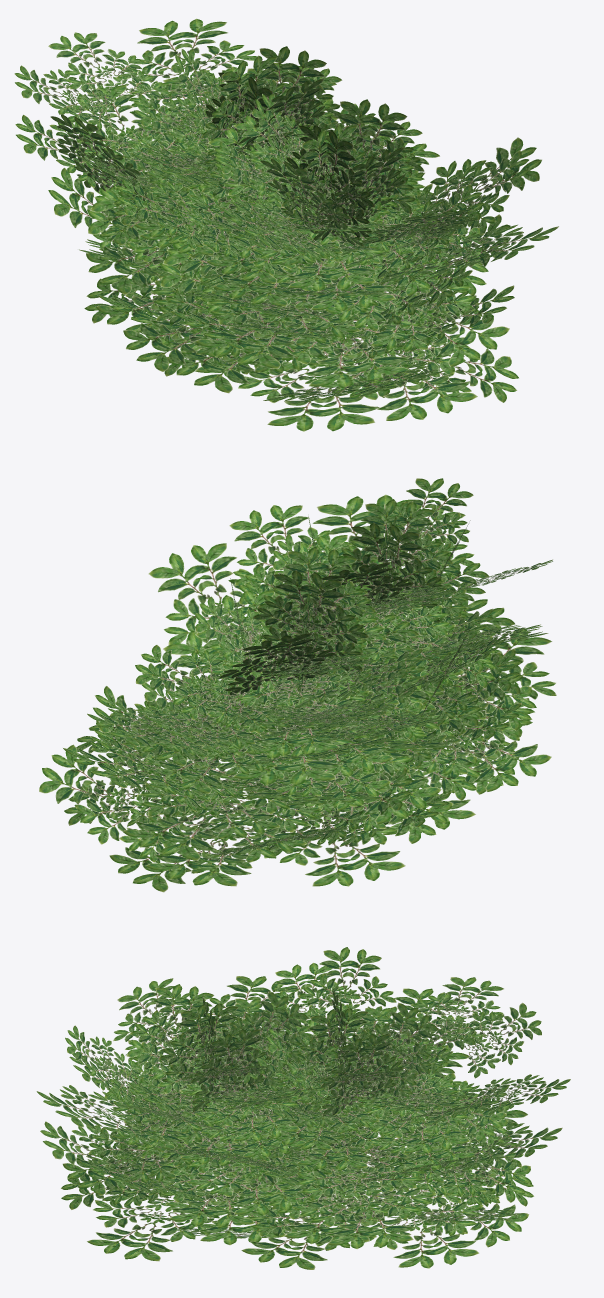
Rendered from buisson_2_2.FBX.
3 views of the same model, one above another, from view 1: azimuth 30°, elevation 25°; view 2: azimuth 150°, elevation 25°; view 3: azimuth 270°, elevation 25° (orthographic). The views are drawn at different scales.
Parts seen in each view (by area): view 1: Plane1842; view 2: Plane1842; view 3: Plane1842.
Part boxes in pixels (<box>): Plane1842: <box>14,18,558,431</box>; Plane1842: <box>39,478,556,892</box>; Plane1842: <box>36,947,570,1269</box>.
Size of the model in its own units: 237 by 143 by 324.
1 material, 1 textured.
